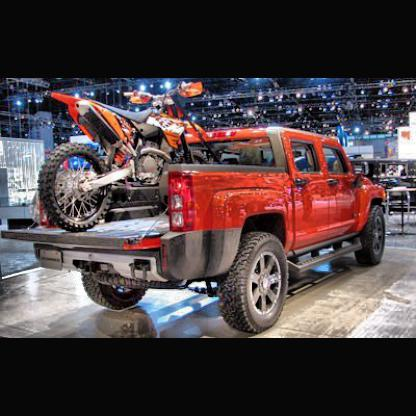HUMMER H3T Crew Cab 2010: (8, 124, 393, 334)
